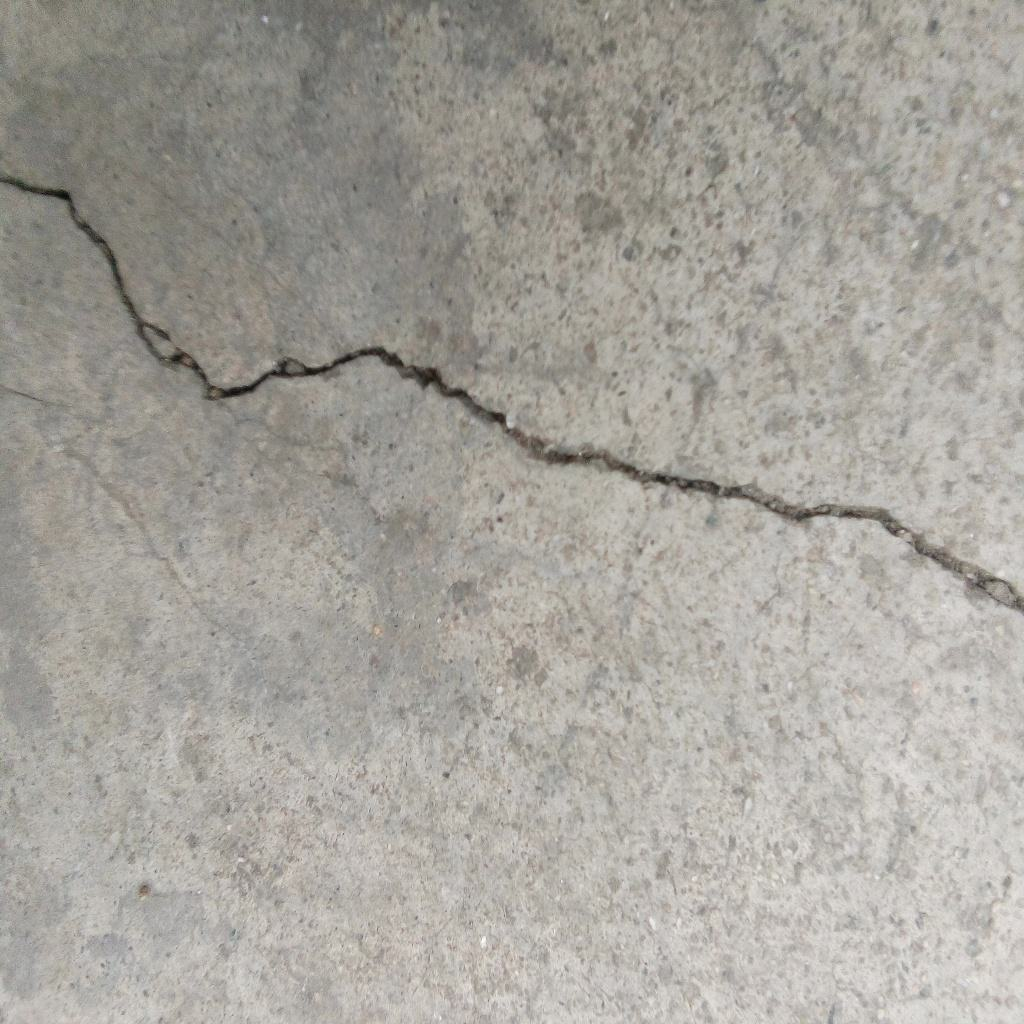Crack: (1, 173, 1024, 615)
